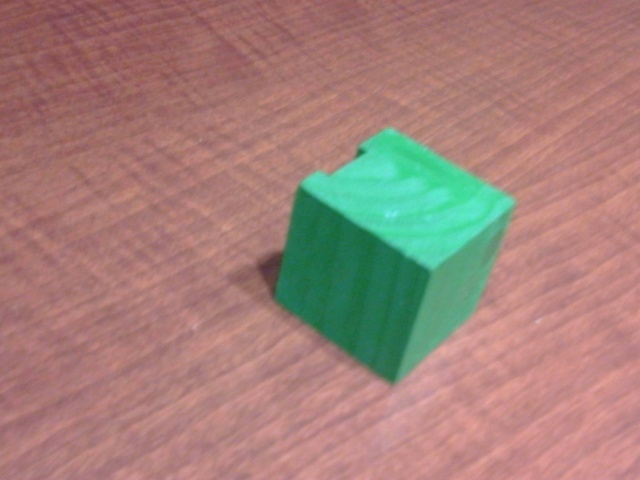GreenBlock: (274, 125, 514, 388)
